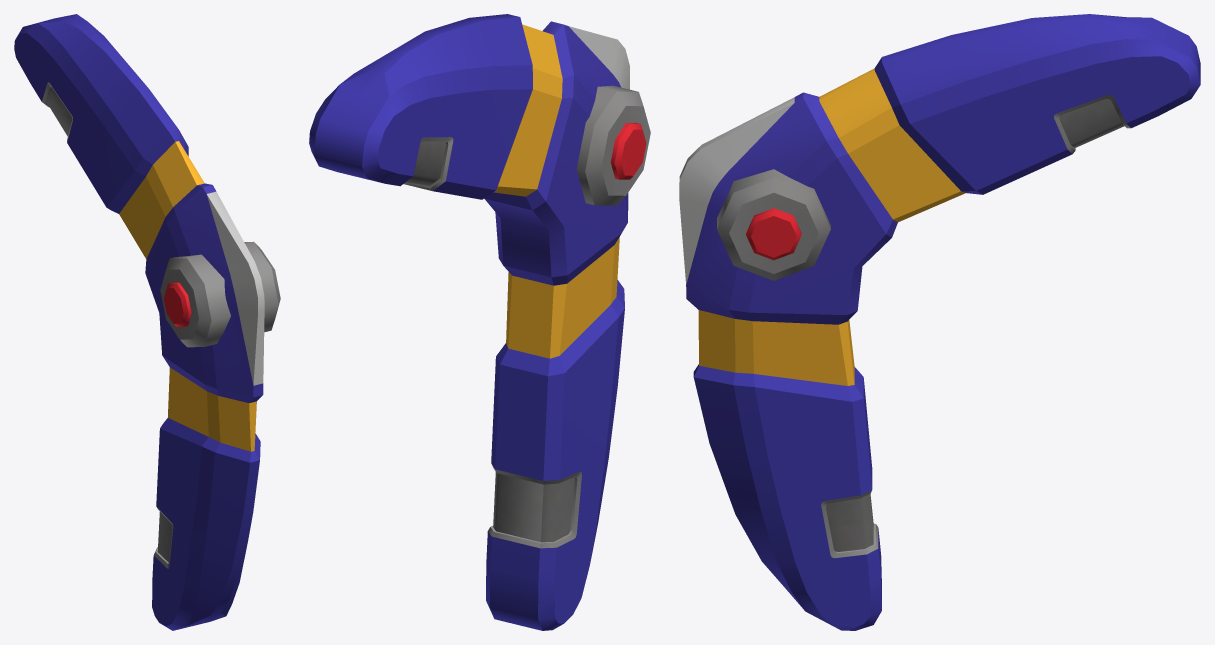
File: SM_BoomBerang_1_C_SW.fbx
3 views of the same model, side by side, from view 1: azimuth 30°, elevation 25°; view 2: azimuth 150°, elevation 25°; view 3: azimuth 270°, elevation 25° (orthographic). The views are drawn at different scales.
Visible parts, largest first — view 1: SM_BoomBerang_1_C_SW; view 2: SM_BoomBerang_1_C_SW; view 3: SM_BoomBerang_1_C_SW.
Boxes of the visible parts, bbox=[...] form: SM_BoomBerang_1_C_SW: bbox=[14, 14, 280, 630]; SM_BoomBerang_1_C_SW: bbox=[309, 14, 650, 630]; SM_BoomBerang_1_C_SW: bbox=[679, 14, 1200, 630].
Bounding box in the file's own units: 0.0582 × 0.3088 × 0.2418.
